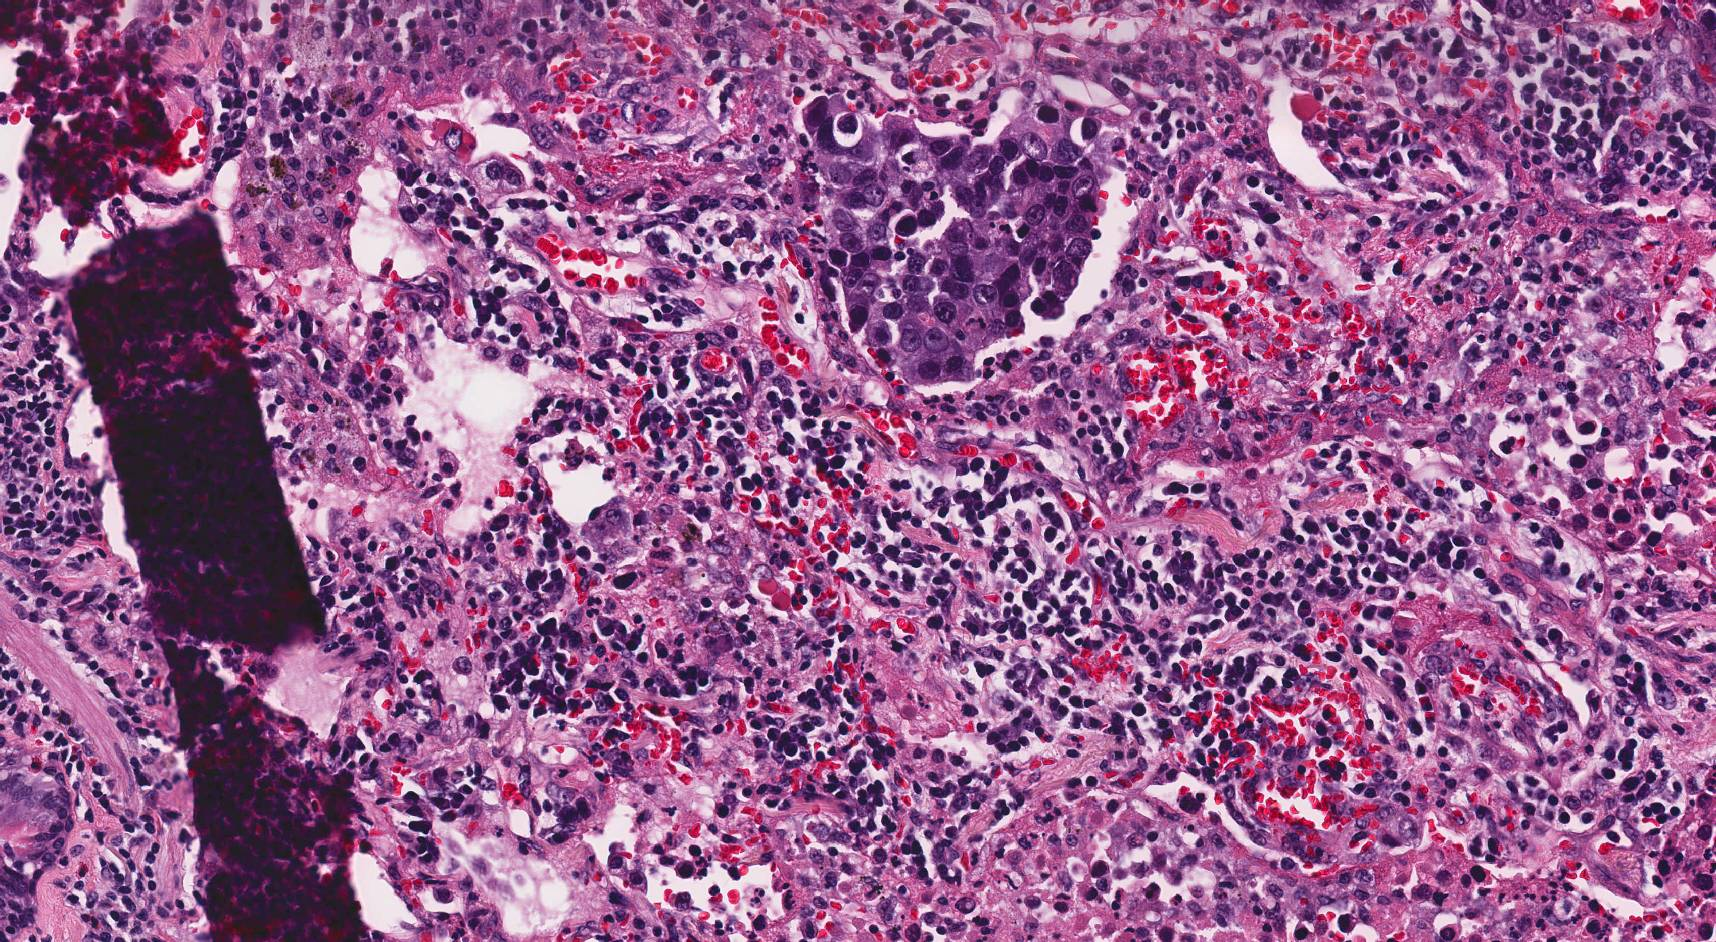stas: (798, 93, 1108, 388)
